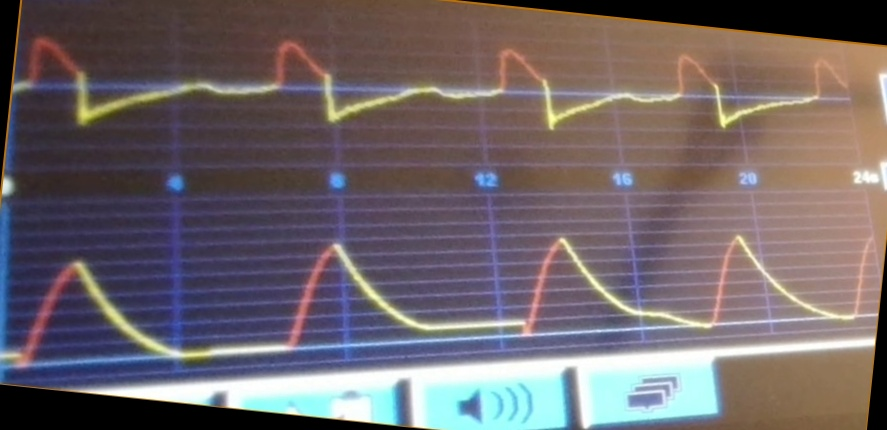Ineffective_effort Flow: (18, 36, 848, 145)
Ineffective_effort Volume: (12, 225, 874, 364)
